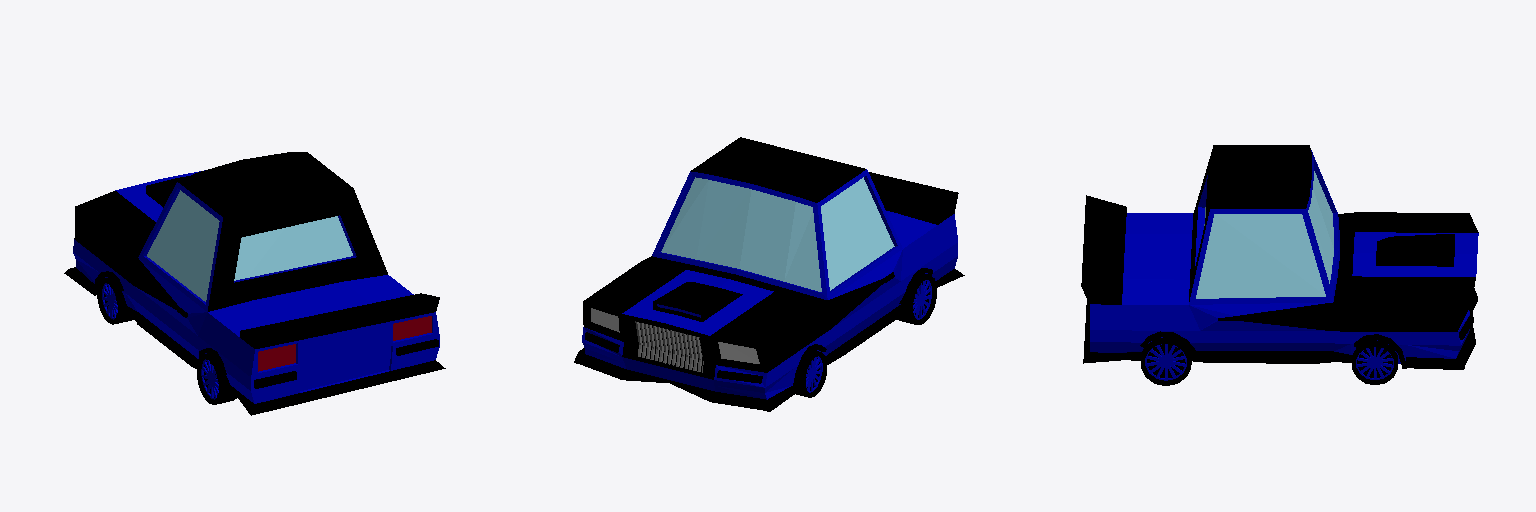
3 views of the same model, side by side, from view 1: azimuth 30°, elevation 25°; view 2: azimuth 150°, elevation 25°; view 3: azimuth 270°, elevation 25° (orthographic).
Parts seen in each view (by area): view 1: body_ID56, backlight_ID75, wheel.1_ID84, wheel1.1_ID93; view 2: body_ID56, lattice.1_ID29, wheel.1_ID84, headlight_ID66, wheel1.1_ID93; view 3: body_ID56, wheel.1_ID84, wheel1.1_ID93.
Part boxes in pixels (x1,y1,x2,y2): body_ID56: (64, 152, 445, 415); backlight_ID75: (258, 316, 431, 371); wheel.1_ID84: (197, 354, 236, 404); wheel1.1_ID93: (97, 278, 133, 324); body_ID56: (574, 137, 964, 411); lattice.1_ID29: (635, 321, 703, 372); wheel.1_ID84: (897, 274, 936, 324); headlight_ID66: (591, 308, 759, 363); wheel1.1_ID93: (796, 351, 826, 397); body_ID56: (1081, 145, 1478, 369); wheel.1_ID84: (1141, 338, 1191, 385); wheel1.1_ID93: (1352, 341, 1397, 384).
Size of the model in its own units: 0.6547 by 0.5142 by 1.1.
7 materials, 6 textured.